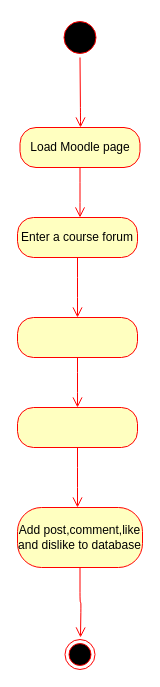
The diagram is 160 pixels wide and 687 high, and some of its shapes have lost their labels. Here are the shapes that lost their labels. From the top down, the centre of each, then its label:
At point 77,337: "Post and comment".
At point 77,427: "Like or Dislike".
